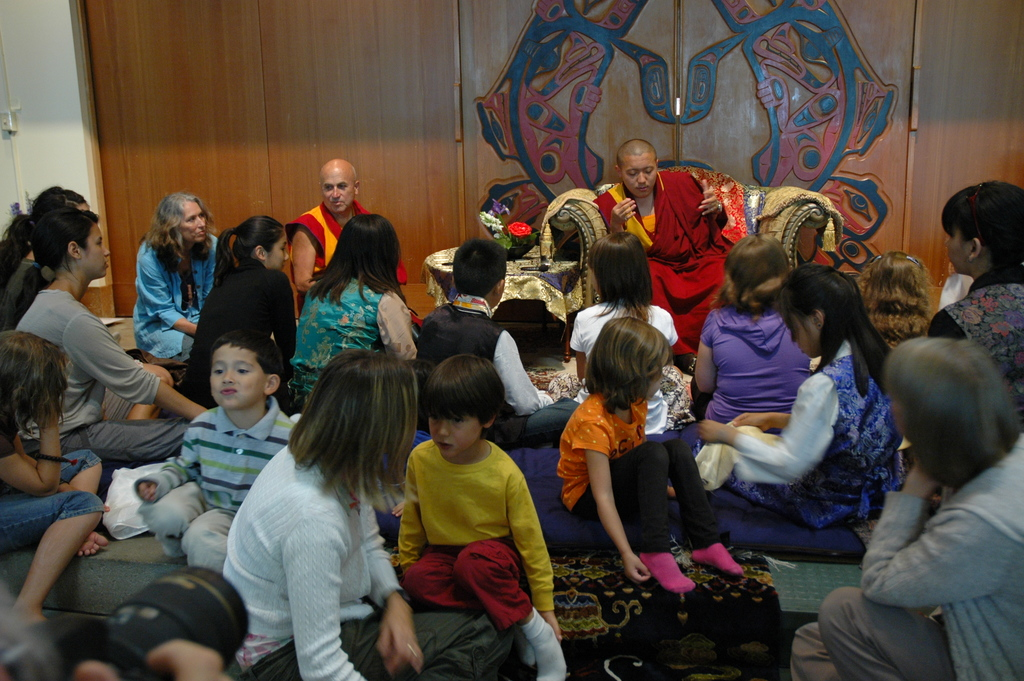Human_hand: (71, 635, 232, 680), (376, 600, 424, 678), (696, 179, 723, 217), (623, 553, 652, 585), (613, 196, 639, 229), (732, 413, 772, 434), (696, 420, 724, 446), (542, 612, 563, 640), (36, 406, 65, 426), (137, 482, 159, 504)
